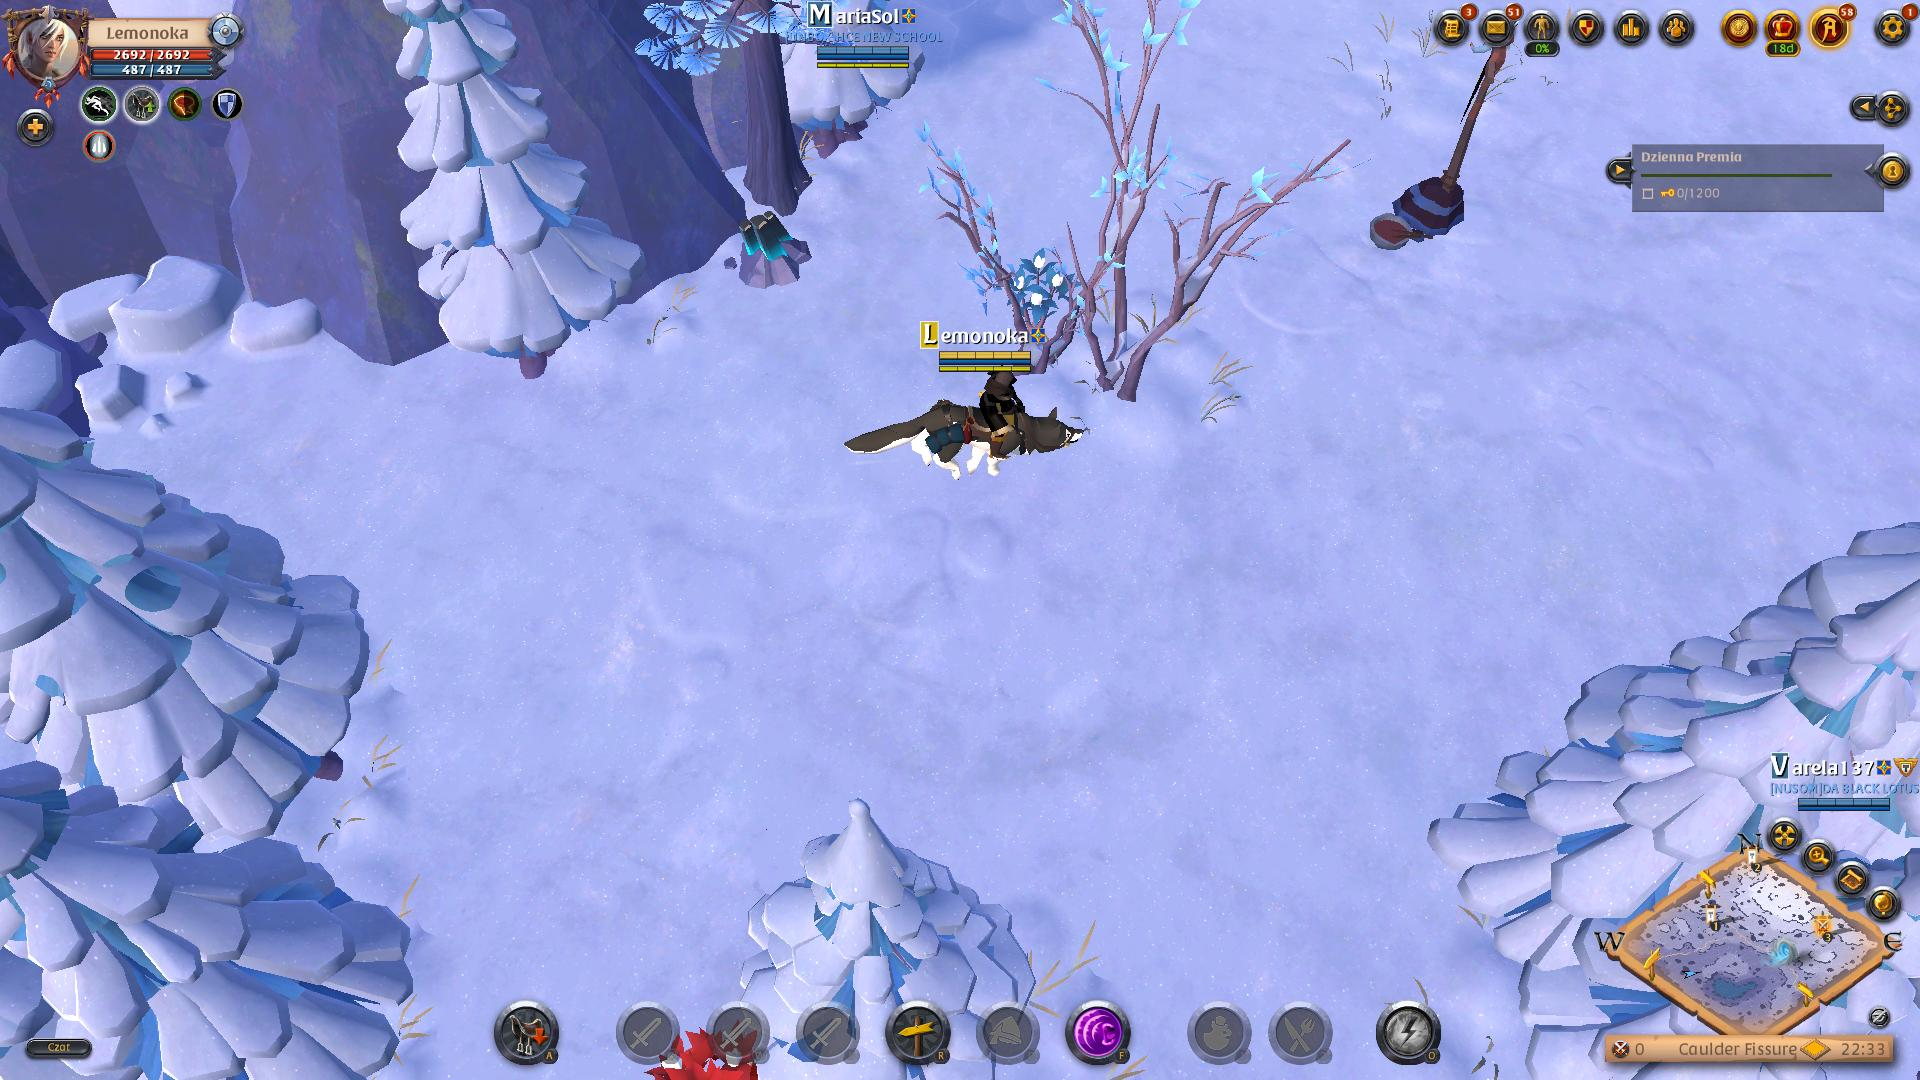fiber tier 4: (996, 240, 1084, 330)
ore tier 4: (728, 204, 816, 291)
